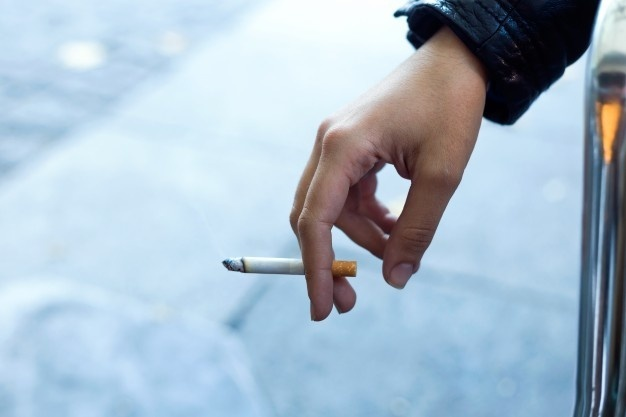sigaretta: (225, 252, 370, 288)
